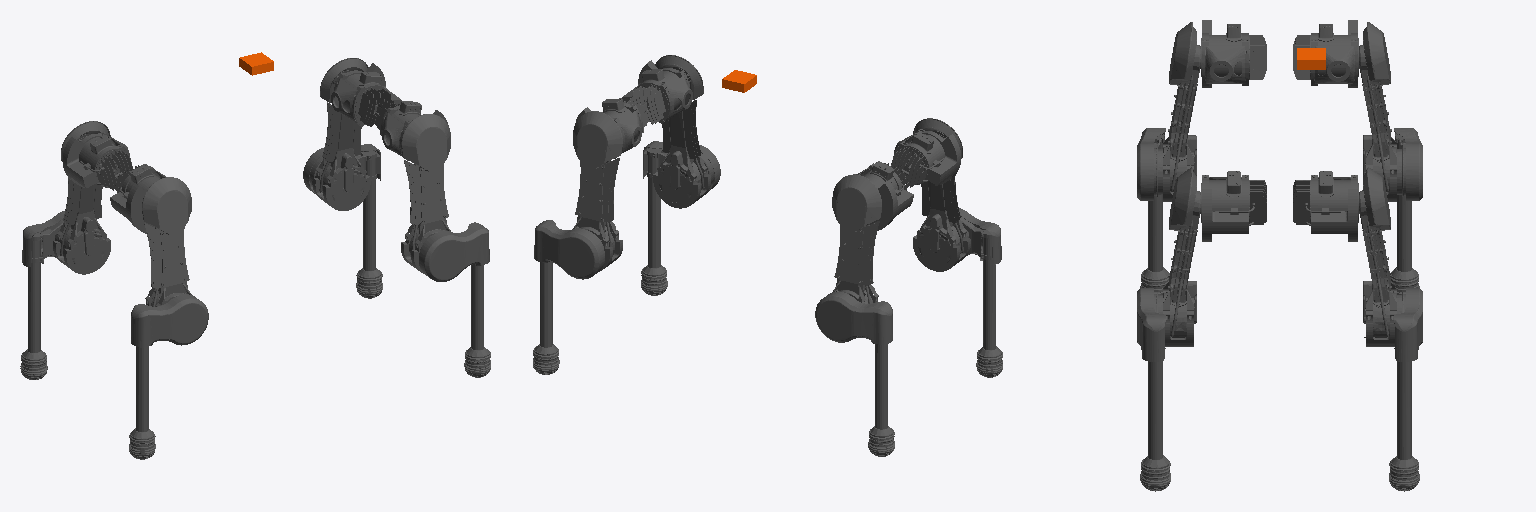
--- Render facts (derived) ---
3 views of the same robot in one strip: view 1: azimuth 30°, elevation 25°; view 2: azimuth 150°, elevation 25°; view 3: azimuth 270°, elevation 25° (orthographic).
Robot: anymal — 23 links, 22 joints (12 revolute, 10 fixed); root link base; default pose: every joint at zero.
Links seen in each view (by area): view 1: RF_THIGH, RH_THIGH, LF_THIGH, LH_THIGH, RH_SHANK, LH_HIP, RF_SHANK, LF_HIP, LH_ADAPTER, LF_ADAPTER, RH_ADAPTER, RF_ADAPTER (+5 smaller); view 2: LF_THIGH, LH_THIGH, RF_THIGH, RH_THIGH, LH_SHANK, RH_HIP, LF_SHANK, RF_HIP, RH_ADAPTER, RF_ADAPTER, LF_ADAPTER, LH_ADAPTER (+5 smaller); view 3: LF_THIGH, RF_THIGH, LH_THIGH, RH_THIGH, LF_HIP, RF_HIP, RH_HIP, LH_HIP, RF_ADAPTER, LF_ADAPTER, LF_SHANK, RF_SHANK (+5 smaller).
Link boxes in pixels (left/top/right/bottom): RF_THIGH: left=401, top=114, right=450, bottom=273; RH_THIGH: left=142, top=177, right=191, bottom=306; LF_THIGH: left=312, top=58, right=370, bottom=210; LH_THIGH: left=53, top=121, right=110, bottom=274; RH_SHANK: left=131, top=294, right=208, bottom=347; LH_HIP: left=63, top=131, right=132, bottom=190; RF_SHANK: left=419, top=222, right=489, bottom=281; LF_HIP: left=331, top=63, right=401, bottom=126; LH_ADAPTER: left=20, top=233, right=47, bottom=379; LF_ADAPTER: left=356, top=151, right=382, bottom=298; RH_ADAPTER: left=129, top=347, right=155, bottom=459; RF_ADAPTER: left=464, top=264, right=490, bottom=377; LF_THIGH: left=573, top=111, right=622, bottom=271; LH_THIGH: left=832, top=174, right=881, bottom=303; RF_THIGH: left=653, top=55, right=710, bottom=208; RH_THIGH: left=913, top=118, right=970, bottom=271; LH_SHANK: left=815, top=292, right=892, bottom=344; RH_HIP: left=891, top=129, right=960, bottom=187; LF_SHANK: left=534, top=220, right=604, bottom=279; RF_HIP: left=622, top=60, right=692, bottom=124; RH_ADAPTER: left=976, top=230, right=1002, bottom=377; RF_ADAPTER: left=641, top=148, right=667, bottom=295; LF_ADAPTER: left=533, top=262, right=559, bottom=374; LH_ADAPTER: left=868, top=344, right=894, bottom=456; LF_THIGH: left=1359, top=167, right=1401, bottom=346; RF_THIGH: left=1158, top=167, right=1200, bottom=346; LH_THIGH: left=1359, top=22, right=1401, bottom=201; RH_THIGH: left=1158, top=22, right=1200, bottom=201; LF_HIP: left=1293, top=171, right=1358, bottom=241; RF_HIP: left=1201, top=171, right=1266, bottom=241; RH_HIP: left=1201, top=20, right=1266, bottom=87; LH_HIP: left=1293, top=20, right=1358, bottom=87; RF_ADAPTER: left=1140, top=361, right=1170, bottom=491; LF_ADAPTER: left=1389, top=361, right=1419, bottom=491; LF_SHANK: left=1394, top=288, right=1422, bottom=361; RF_SHANK: left=1137, top=288, right=1165, bottom=361.
Size in the robot's own frame: 0.9429 by 0.568 by 0.763 metres.
Meshes: 7 distinct files referenced, 16 mesh visuals loaded (6 OBJ); not drawn: 1 (reference not matched to a file when rendering).

The robot description file, URDF, robot "anymal":
<?xml version="1.0" ?>
<!-- =================================================================================== -->
<!-- |    This URDF was edited to fix inertias.                                        | -->
<!-- =================================================================================== -->
<!-- This file contains the description of the ANYmal B robot. -->
<robot name="anymal" 
  xmlns:xacro="http://www.ros.org/wiki/xacro">
  <material name="black">
    <color rgba="0.0 0.0 0.0 1.0"/>
  </material>
  <material name="blue">
    <color rgba="0.0 0.0 0.8 1.0"/>
  </material>
  <material name="green">
    <color rgba="0.0 0.8 0.0 1.0"/>
  </material>
  <material name="grey">
    <color rgba="0.2 0.2 0.2 1.0"/>
  </material>
  <material name="light_grey">
    <color rgba="0.4 0.4 0.4 1.0"/>
  </material>
  <material name="orange">
    <color rgba="1.0 0.423529411765 0.0392156862745 1.0"/>
  </material>
  <material name="brown">
    <color rgba="0.870588235294 0.811764705882 0.764705882353 1.0"/>
  </material>
  <material name="red">
    <color rgba="0.8 0.0 0.0 1.0"/>
  </material>
  <material name="white">
    <color rgba="1.0 1.0 1.0 1.0"/>
  </material>
  <!-- Material for the visual primitives -->
  <material name="anymal_material">
    <color rgba="0.4 0.4 0.4 1."/>
  </material>
  <!-- Xacro:Properties -->
  <!-- [m] -->
  <!-- Base link -->
  <link name="base">
    <visual>
      <origin rpy="0 0 0" xyz="0 0 0"/>
      <geometry>
        <mesh filename="package://anymal_b_simple_description/meshes/base/anymal_base.obj" scale="1 1 1"/>
      </geometry>
      <material name="anymal_material"/>
    </visual>
    <collision>
      <!-- Main Body -->
      <origin rpy="0 0 0" xyz="0 0 0.08"/>
      <geometry>
        <box size="0.531 0.27 0.24"/>
      </geometry>
    </collision>
    <collision>
      <!-- HAA actuators -->
      <origin rpy="0 1.57079632679 0" xyz="0.227 0.116 0"/>
      <geometry>
        <cylinder length="0.1" radius="0.05"/>
      </geometry>
    </collision>
    <collision>
      <origin rpy="0 1.57079632679 0" xyz="0.227 -0.116 0"/>
      <geometry>
        <cylinder length="0.1" radius="0.05"/>
      </geometry>
    </collision>
    <collision>
      <origin rpy="0 1.57079632679 0" xyz="-0.227 0.116 0"/>
      <geometry>
        <cylinder length="0.1" radius="0.05"/>
      </geometry>
    </collision>
    <collision>
      <origin rpy="0 1.57079632679 0" xyz="-0.227 -0.116 0"/>
      <geometry>
        <cylinder length="0.1" radius="0.05"/>
      </geometry>
    </collision>
    <collision>
      <!-- Belly plate front bump -->
      <origin rpy="0 0 0" xyz="0.2155 0.0 -0.09"/>
      <geometry>
        <box size="0.1 0.1 0.07"/>
      </geometry>
    </collision>
    <collision>
      <!-- Belly plate hind bump-->
      <origin rpy="0 0 0" xyz="-0.2155 0.0 -0.09"/>
      <geometry>
        <box size="0.1 0.1 0.07"/>
      </geometry>
    </collision>
    <collision>
      <!-- Belly plate middle bump-->
      <origin rpy="0 0 0" xyz="0 0 -0.09"/>
      <geometry>
        <box size="0.531 0.02 0.07"/>
      </geometry>
    </collision>
    <inertial>
      <mass value="1e-6"/>
      <inertia ixx="1e-6" ixy="1e-6" ixz="1e-6" iyy="1e-6" iyz="1e-6" izz="1e-6"/>
    </inertial>
  </link>
  <!-- Fixed joint to add dummy inertia link -->
  <joint name="base_to_base_inertia" type="fixed">
    <parent link="base"/>
    <child link="base_inertia"/>
    <origin rpy="0 0 0" xyz="0 0 0"/>
  </joint>
  <!-- Dummy inertia link, because KDL cannot have inertia on the base link -->
  <link name="base_inertia">
    <inertial>
      <origin rpy="0 0 0" xyz="-0.001960558279 -0.001413217745 0.050207125344"/>
      <mass value="16.793507758"/>
      <inertia ixx="0.217391101503" ixy="-0.00132873239126" ixz="-0.00228200226173" iyy="0.639432546734" iyz="-0.00138078263145" izz="0.62414077654"/>
    </inertial>
  </link>
  <!-- Xacro:Properties -->
  <!-- [kg * m^2] -->
  <!-- [A] -->
  <link name="LF_HIP">
    <visual>
      <origin rpy="0 0 0.0" xyz="0 0 0"/>
      <geometry>
        <mesh filename="package://anymal_b_simple_description/meshes/hip/anymal_hip_l.obj" scale="1 1 1"/>
      </geometry>
      <material name="anymal_material"/>
    </visual>
    <collision>
      <!-- Protector -->
      <origin rpy="1.57079632679 0 0" xyz="0.0635 -0.009 0.0"/>
      <geometry>
        <cylinder length="0.1" radius="0.08"/>
      </geometry>
    </collision>
    <collision>
      <!-- Heatfins -->
      <origin rpy="1.57079632679 0 0" xyz="0.0635 -0.074 0.0"/>
      <geometry>
        <cylinder length="0.03" radius="0.045"/>
      </geometry>
    </collision>
    <inertial>
      <origin rpy="0 0 0" xyz="0.064516258147 -0.003787101702 -0.000152184388"/>
      <mass value="1.42462064"/>
      <inertia ixx="0.00243023349564" ixy="-1.53023971e-05" ixz="-2.1819095354e-05" iyy="0.00230257239103" iyz="2.6473021273e-05" izz="0.0019806759227"/>
    </inertial>
  </link>
  <!-- Hip joint -->
  <joint name="LF_HAA" type="revolute">
    <parent link="base"/>
    <child link="LF_HIP"/>
    <origin xyz="0.277 0.116 0.0"/>
    <axis xyz="1 0 0"/>
    <limit command_effort="40" current="10" effort="80" gear_velocity="10" lower="-9.42" upper="9.42" velocity="15"/>
    <dynamics damping="0.0" friction="0.0"/>
  </joint>
  <!-- Xacro:Properties -->
  <!-- [m] -->
  <!-- [A] -->
  <link name="LF_THIGH">
    <visual>
      <origin rpy="0 0 0" xyz="0 0 0"/>
      <geometry>
        <mesh filename="package://anymal_b_simple_description/meshes/thigh/anymal_thigh.obj" scale="1 1 1"/>
      </geometry>
      <material name="anymal_material"/>
    </visual>
    <collision>
      <!-- thigh with heat fins -->
      <origin rpy="0.145 0 0" xyz="0 0.035 -0.125"/>
      <geometry>
        <box size="0.08 0.04 0.25"/>
      </geometry>
    </collision>
    <collision>
      <!-- KFE actuator -->
      <origin rpy="1.57079632679 0 0" xyz="0.0 0.069 -0.25"/>
      <geometry>
        <cylinder length="0.12" radius="0.06"/>
      </geometry>
    </collision>
    <collision>
      <!-- upper protector -->
      <origin rpy="1.71579632679 0 0" xyz="0 -0.005 0"/>
      <geometry>
        <cylinder length="0.12" radius="0.066"/>
      </geometry>
    </collision>
    <inertial>
      <origin rpy="0 0 0" xyz="-0.003897968082 0.054226618537 -0.214583373795"/>
      <mass value="1.634976467"/>
      <inertia ixx="0.0120367944369" ixy="6.762065206e-05" ixz="0.000287806340448" iyy="0.0120643637939" iyz="-0.00140610131218" izz="0.00249422574881"/>
    </inertial>
  </link>
  <!-- Thigh joint -->
  <joint name="LF_HFE" type="revolute">
    <parent link="LF_HIP"/>
    <child link="LF_THIGH"/>
    <origin xyz="0.0635                    0.041                    0.0"/>
    <axis xyz="0 1 0"/>
    <limit command_effort="40" current="10" effort="80" gear_velocity="10" lower="-9.42" upper="9.42" velocity="15.0"/>
    <dynamics damping="0.0" friction="0.0"/>
  </joint>
  <!-- Xacro:Properties -->
  <!-- [m] -->
  <!-- [A] -->
  <link name="LF_SHANK">
    <visual>
      <origin rpy="0 0 0.0" xyz="0 0 0"/>
      <geometry>
        <mesh filename="package://anymal_b_simple_description/meshes/shank/anymal_shank_l.obj" scale="1 1 1"/>
      </geometry>
      <material name="anymal_material"/>
    </visual>
    <collision>
      <origin rpy="0 1.57079632679 0" xyz="0.065 -0.015 0.01"/>
      <geometry>
        <box size="0.08 0.07 0.13"/>
      </geometry>
    </collision>
    <inertial>
      <origin rpy="0 0 0" xyz="0.030816858139 -0.004617229294 0.000893125713"/>
      <mass value="0.207204302"/>
      <inertia ixx="0.0002104880248" ixy="-5.6750980345e-05" ixz="1.0127699391e-05" iyy="0.000676270210023" iyz="-8.22869024e-07" izz="0.000545032674924"/>
    </inertial>
  </link>
  <!-- Shank joint -->
  <joint name="LF_KFE" type="revolute">
    <parent link="LF_THIGH"/>
    <child link="LF_SHANK"/>
    <origin xyz="0.0 0.109 -0.25"/>
    <axis xyz="0 1 0"/>
    <limit command_effort="40" current="10" effort="80" gear_velocity="10" lower="-9.42" upper="9.42" velocity="15.0"/>
    <dynamics damping="0.0" friction="0.0"/>
  </joint>
  <!-- Xacro:Properties -->
  <!-- [m] -->
  <!-- Shank to Adapter joint -->
  <joint name="LF_SHANK_TO_ADAPTER" type="fixed">
    <parent link="LF_SHANK"/>
    <child link="LF_ADAPTER"/>
    <origin rpy="0.0 0.0 0.0" xyz="0.1 -0.02 0.0"/>
  </joint>
  <!-- Adapter link -->
  <link name="LF_ADAPTER">
    <visual>
      <origin rpy="0 0 0" xyz="0 0 0.032"/>
      <geometry>
        <mesh filename="package://anymal_b_simple_description/meshes/foot/anymal_foot.obj" scale="1 1 1"/>
      </geometry>
      <material name="anymal_material"/>
    </visual>
    <collision>
      <origin rpy="0 0 0" xyz="0 0 -0.160625"/>
      <geometry>
        <cylinder length="0.32125" radius="0.015"/>
      </geometry>
      <material name="anymal_material"/>
    </collision>
    <inertial>
      <origin rpy="0 0 0" xyz="-8.66e-10 -1.472e-09 -0.244345749188"/>
      <mass value="0.140170767"/>
      <inertia ixx="0.00159938741862" ixy="-9.32e-13" ixz="1.039e-11" iyy="0.00159938741932" iyz="1.7563e-11" izz="5.4423177329e-05"/>
    </inertial>
  </link>
  <!-- Adapter to Foot joint -->
  <joint name="LF_ADAPTER_TO_FOOT" type="fixed">
    <parent link="LF_ADAPTER"/>
    <child link="LF_FOOT"/>
    <origin rpy="0.0 0.0 0.0" xyz="0.0 0.0 -0.32125"/>
  </joint>
  <!-- Foot link -->
  <link name="LF_FOOT">
    <collision>
      <origin xyz="0 0 0.02325"/>
      <geometry>
        <sphere radius="0.031"/>
      </geometry>
    </collision>
    <inertial>
      <mass value="0.001"/>
      <inertia ixx="4.90e-07" ixy="0.0" ixz="0.0" iyy="4.90e-07" iyz="0.0" izz="4.90e-07"/>
      <!-- for a sphere: 2/5 m * r**2 -->
    </inertial>
    <!-- Bullet specific parameters -->
    <contact>
      <lateral_friction value="1.0"/>
      <stiffness value="300000"/>
      <damping value="15000"/>
      <!--<restitution value="0.5"/>-->
    </contact>
  </link>
  <!-- Gazebo customization -->
  <gazebo reference="LF_FOOT">
    <kp>1000000.0</kp>
    <kd>100.0</kd>
    <mu1>0.8</mu1>
    <mu2>0.8</mu2>
  </gazebo>
  <!-- Xacro:Properties -->
  <!-- [kg * m^2] -->
  <!-- [A] -->
  <link name="RF_HIP">
    <visual>
      <origin rpy="0 0 0" xyz="0 0 0"/>
      <geometry>
        <mesh filename="package://anymal_b_simple_description/meshes/hip/anymal_hip_r.obj" scale="1 1 1"/>
      </geometry>
      <material name="anymal_material"/>
    </visual>
    <collision>
      <!-- Protector -->
      <origin rpy="1.57079632679 0 0" xyz="0.0635 0.009 0.0"/>
      <geometry>
        <cylinder length="0.1" radius="0.08"/>
      </geometry>
    </collision>
    <collision>
      <!-- Heatfins -->
      <origin rpy="1.57079632679 0 0" xyz="0.0635 0.074 0.0"/>
      <geometry>
        <cylinder length="0.03" radius="0.045"/>
      </geometry>
    </collision>
    <inertial>
      <origin rpy="0 0 0" xyz="0.064516258147 0.003787101702 -0.000152184388"/>
      <mass value="1.42462064"/>
      <inertia ixx="0.00243023349564" ixy="1.53023971e-05" ixz="-2.1819095354e-05" iyy="0.00230257239103" iyz="-2.6473021273e-05" izz="0.0019806759227"/>
    </inertial>
  </link>
  <!-- Hip joint -->
  <joint name="RF_HAA" type="revolute">
    <parent link="base"/>
    <child link="RF_HIP"/>
    <origin xyz="0.277 -0.116 0.0"/>
    <axis xyz="1 0 0"/>
    <limit command_effort="40" current="10" effort="80" gear_velocity="10" lower="-9.42" upper="9.42" velocity="15"/>
    <dynamics damping="0.0" friction="0.0"/>
  </joint>
  <!-- Xacro:Properties -->
  <!-- [m] -->
  <!-- [A] -->
  <link name="RF_THIGH">
    <visual>
      <origin rpy="3.1416 3.1416 0.0" xyz="0 0 0"/>
      <geometry>
        <mesh filename="package://anymal_b_simple_description/meshes/thigh/anymal_thigh.obj" scale="1 1 1"/>
      </geometry>
      <material name="anymal_material"/>
    </visual>
    <collision>
      <!-- thigh with heat fins -->
      <origin rpy="-0.145 0 0" xyz="0 -0.035 -0.125"/>
      <geometry>
        <box size="0.08 0.04 0.25"/>
      </geometry>
    </collision>
    <collision>
      <!-- KFE actuator -->
      <origin rpy="1.57079632679 0 0" xyz="0.0 -0.069 -0.25"/>
      <geometry>
        <cylinder length="0.12" radius="0.06"/>
      </geometry>
    </collision>
    <collision>
      <!-- upper protector -->
      <origin rpy="-1.71579632679 0 0" xyz="0 0.005 0"/>
      <geometry>
        <cylinder length="0.12" radius="0.066"/>
      </geometry>
    </collision>
    <inertial>
      <origin rpy="0 0 0" xyz="-0.003897968082 -0.054226618537 -0.214583373795"/>
      <mass value="1.634976467"/>
      <inertia ixx="0.0120367944369" ixy="-6.762065206e-05" ixz="0.000287806340448" iyy="0.0120643637939" iyz="0.00140610131218" izz="0.00249422574881"/>
    </inertial>
  </link>
  <!-- Thigh joint -->
  <joint name="RF_HFE" type="revolute">
    <parent link="RF_HIP"/>
    <child link="RF_THIGH"/>
    <origin xyz="0.0635                    -0.041                    0.0"/>
    <axis xyz="0 1 0"/>
    <limit command_effort="40" current="10" effort="80" gear_velocity="10" lower="-9.42" upper="9.42" velocity="15.0"/>
    <dynamics damping="0.0" friction="0.0"/>
  </joint>
  <!-- Xacro:Properties -->
  <!-- [m] -->
  <!-- [A] -->
  <link name="RF_SHANK">
    <visual>
      <origin rpy="0 0 0.0" xyz="0 0 0"/>
      <geometry>
        <mesh filename="package://anymal_b_simple_description/meshes/shank/anymal_shank_r.obj" scale="1 1 1"/>
      </geometry>
      <material name="anymal_material"/>
    </visual>
    <collision>
      <origin rpy="0 1.57079632679 0" xyz="0.065 0.015 0.01"/>
      <geometry>
        <box size="0.08 0.07 0.13"/>
      </geometry>
    </collision>
    <inertial>
      <origin rpy="0 0 0" xyz="0.030816858139 0.004617229294 0.000893125713"/>
      <mass value="0.207204302"/>
      <inertia ixx="0.0002104880248" ixy="5.6750980345e-05" ixz="1.0127699391e-05" iyy="0.000676270210023" iyz="8.22869024e-07" izz="0.000545032674924"/>
    </inertial>
  </link>
  <!-- Shank joint -->
  <joint name="RF_KFE" type="revolute">
    <parent link="RF_THIGH"/>
    <child link="RF_SHANK"/>
    <origin xyz="0.0 -0.109 -0.25"/>
    <axis xyz="0 1 0"/>
    <limit command_effort="40" current="10" effort="80" gear_velocity="10" lower="-9.42" upper="9.42" velocity="15.0"/>
    <dynamics damping="0.0" friction="0.0"/>
  </joint>
  <!-- Xacro:Properties -->
  <!-- [m] -->
  <!-- Shank to Adapter joint -->
  <joint name="RF_SHANK_TO_ADAPTER" type="fixed">
    <parent link="RF_SHANK"/>
    <child link="RF_ADAPTER"/>
    <origin rpy="-0.0 0.0 -0.0" xyz="0.1 0.02 0.0"/>
  </joint>
  <!-- Adapter link -->
  <link name="RF_ADAPTER">
    <visual>
      <origin rpy="0 0 0" xyz="0 0 0.032"/>
      <geometry>
        <mesh filename="package://anymal_b_simple_description/meshes/foot/anymal_foot.obj" scale="1 1 1"/>
      </geometry>
      <material name="anymal_material"/>
    </visual>
    <collision>
      <origin rpy="0 0 0" xyz="0 0 -0.160625"/>
      <geometry>
        <cylinder length="0.32125" radius="0.015"/>
      </geometry>
      <material name="anymal_material"/>
    </collision>
    <inertial>
      <origin rpy="0 0 0" xyz="-8.66e-10 -1.472e-09 -0.244345749188"/>
      <mass value="0.140170767"/>
      <inertia ixx="0.00159938741862" ixy="-9.32e-13" ixz="1.039e-11" iyy="0.00159938741932" iyz="1.7563e-11" izz="5.4423177329e-05"/>
    </inertial>
  </link>
  <!-- Adapter to Foot joint -->
  <joint name="RF_ADAPTER_TO_FOOT" type="fixed">
    <parent link="RF_ADAPTER"/>
    <child link="RF_FOOT"/>
    <origin rpy="-0.0 0.0 -0.0" xyz="0.0 -0.0 -0.32125"/>
  </joint>
  <!-- Foot link -->
  <link name="RF_FOOT">
    <collision>
      <origin xyz="0 0 0.02325"/>
      <geometry>
        <sphere radius="0.031"/>
      </geometry>
    </collision>
    <inertial>
      <mass value="0.001"/>
      <inertia ixx="4.90e-07" ixy="0.0" ixz="0.0" iyy="4.90e-07" iyz="0.0" izz="4.90e-07"/>
      <!-- for a sphere: 2/5 m * r**2 -->
    </inertial>
    <!-- Bullet specific parameters -->
    <contact>
      <lateral_friction value="1.0"/>
      <stiffness value="300000"/>
      <damping value="15000"/>
      <!--<restitution value="0.5"/>-->
    </contact>
  </link>
  <!-- Gazebo customization -->
  <gazebo reference="RF_FOOT">
    <kp>1000000.0</kp>
    <kd>100.0</kd>
    <mu1>0.8</mu1>
    <mu2>0.8</mu2>
  </gazebo>
  <!-- Xacro:Properties -->
  <!-- [kg * m^2] -->
  <!-- [A] -->
  <link name="LH_HIP">
    <visual>
      <origin rpy="0 0 -3.14159265359" xyz="0 0 0"/>
      <geometry>
        <mesh filename="package://anymal_b_simple_description/meshes/hip/anymal_hip_r.obj" scale="1 1 1"/>
      </geometry>
      <material name="anymal_material"/>
    </visual>
    <collision>
      <!-- Protector -->
      <origin rpy="-1.57079632679 0 0" xyz="-0.0635 -0.009 0.0"/>
      <geometry>
        <cylinder length="0.1" radius="0.08"/>
      </geometry>
    </collision>
    <collision>
      <!-- Heatfins -->
      <origin rpy="-1.57079632679 0 0" xyz="-0.0635 -0.074 0.0"/>
      <geometry>
        <cylinder length="0.03" radius="0.045"/>
      </geometry>
    </collision>
    <inertial>
      <origin rpy="0 0 0" xyz="-0.064516258147 -0.003787101702 -0.000152184388"/>
      <mass value="1.42462064"/>
      <inertia ixx="0.00243023349564" ixy="1.53023971e-05" ixz="2.1819095354e-05" iyy="0.00230257239103" iyz="2.6473021273e-05" izz="0.0019806759227"/>
    </inertial>
  </link>
  <!-- Hip joint -->
  <joint name="LH_HAA" type="revolute">
    <parent link="base"/>
    <child link="LH_HIP"/>
    <origin xyz="-0.277 0.116 0.0"/>
    <axis xyz="1 0 0"/>
    <limit command_effort="40" current="10" effort="80" gear_velocity="10" lower="-9.42" upper="9.42" velocity="15"/>
    <dynamics damping="0.0" friction="0.0"/>
  </joint>
  <!-- Xacro:Properties -->
  <!-- [m] -->
  <!-- [A] -->
  <link name="LH_THIGH">
    <visual>
      <origin rpy="0 0 0" xyz="0 0 0"/>
      <geometry>
        <mesh filename="package://anymal_b_simple_description/meshes/thigh/anymal_thigh.obj" scale="1 1 1"/>
      </geometry>
      <material name="anymal_material"/>
    </visual>
    <collision>
      <!-- thigh with heat fins -->
      <origin rpy="0.145 0 0" xyz="0 0.035 -0.125"/>
      <geometry>
        <box size="0.08 0.04 0.25"/>
      </geometry>
    </collision>
    <collision>
      <!-- KFE actuator -->
      <origin rpy="1.57079632679 0 0" xyz="0.0 0.069 -0.25"/>
      <geometry>
        <cylinder length="0.12" radius="0.06"/>
      </geometry>
    </collision>
    <collision>
      <!-- upper protector -->
      <origin rpy="1.71579632679 0 0" xyz="0 -0.005 0"/>
      <geometry>
        <cylinder length="0.12" radius="0.066"/>
      </geometry>
    </collision>
    <inertial>
      <origin rpy="0 0 0" xyz="0.003897968082 0.054226618537 -0.214583373795"/>
      <mass value="1.634976467"/>
      <inertia ixx="0.0120367944369" ixy="-6.762065206e-05" ixz="-0.000287806340448" iyy="0.0120643637939" iyz="-0.00140610131218" izz="0.00249422574881"/>
    </inertial>
  </link>
  <!-- Thigh joint -->
  <joint name="LH_HFE" type="revolute">
    <parent link="LH_HIP"/>
    <child link="LH_THIGH"/>
    <origin xyz="-0.0635                    0.041                    0.0"/>
    <axis xyz="0 1 0"/>
    <limit command_effort="40" current="10" effort="80" gear_velocity="10" lower="-9.42" upper="9.42" velocity="15.0"/>
    <dynamics damping="0.0" friction="0.0"/>
  </joint>
  <!-- Xacro:Properties -->
  <!-- [m] -->
  <!-- [A] -->
  <link name="LH_SHANK">
    <visual>
      <origin rpy="0 0 -3.14159265359" xyz="0 0 0"/>
      <geometry>
        <mesh filename="package://anymal_b_simple_description/meshes/shank/anymal_shank_r.obj" scale="1 1 1"/>
      </geometry>
      <material name="anymal_material"/>
    </visual>
    <collision>
      <origin rpy="0 1.57079632679 0" xyz="-0.065 -0.015 0.01"/>
      <geometry>
        <box size="0.08 0.07 0.13"/>
      </geometry>
    </collision>
    <inertial>
      <origin rpy="0 0 0" xyz="-0.030816858139 -0.004617229294 0.000893125713"/>
      <mass value="0.207204302"/>
      <inertia ixx="0.0002104880248" ixy="5.6750980345e-05" ixz="-1.0127699391e-05" iyy="0.000676270210023" iyz="-8.22869024e-07" izz="0.000545032674924"/>
    </inertial>
  </link>
  <!-- Shank joint -->
  <joint name="LH_KFE" type="revolute">
    <parent link="LH_THIGH"/>
    <child link="LH_SHANK"/>
    <origin xyz="-0.0 0.109 -0.25"/>
    <axis xyz="0 1 0"/>
    <limit command_effort="40" current="10" effort="80" gear_velocity="10" lower="-9.42" upper="9.42" velocity="15.0"/>
    <dynamics damping="0.0" friction="0.0"/>
  </joint>
  <!-- Xacro:Properties -->
  <!-- [m] -->
  <!-- Shank to Adapter joint -->
  <joint name="LH_SHANK_TO_ADAPTER" type="fixed">
    <parent link="LH_SHANK"/>
    <child link="LH_ADAPTER"/>
    <origin rpy="0.0 -0.0 -0.0" xyz="-0.1 -0.02 0.0"/>
  </joint>
  <!-- Adapter link -->
  <link name="LH_ADAPTER">
    <visual>
      <origin rpy="0 0 -3.14159265359" xyz="0 0 0.032"/>
      <geometry>
        <mesh filename="package://anymal_b_simple_description/meshes/foot/anymal_foot.obj" scale="1 1 1"/>
      </geometry>
      <material name="anymal_material"/>
    </visual>
    <collision>
      <origin rpy="0 0 0" xyz="0 0 -0.160625"/>
      <geometry>
        <cylinder length="0.32125" radius="0.015"/>
      </geometry>
      <material name="anymal_material"/>
    </collision>
    <inertial>
      <origin rpy="0 0 0" xyz="-8.66e-10 -1.472e-09 -0.244345749188"/>
      <mass value="0.140170767"/>
      <inertia ixx="0.00159938741862" ixy="-9.32e-13" ixz="1.039e-11" iyy="0.00159938741932" iyz="1.7563e-11" izz="5.4423177329e-05"/>
    </inertial>
  </link>
  <!-- Adapter to Foot joint -->
  <joint name="LH_ADAPTER_TO_FOOT" type="fixed">
    <parent link="LH_ADAPTER"/>
    <child link="LH_FOOT"/>
    <origin rpy="0.0 -0.0 -0.0" xyz="-0.0 0.0 -0.32125"/>
  </joint>
  <!-- Foot link -->
  <link name="LH_FOOT">
    <collision>
      <origin xyz="0 0 0.02325"/>
      <geometry>
        <sphere radius="0.031"/>
      </geometry>
    </collision>
    <inertial>
      <mass value="0.001"/>
      <inertia ixx="4.90e-07" ixy="0.0" ixz="0.0" iyy="4.90e-07" iyz="0.0" izz="4.90e-07"/>
      <!-- for a sphere: 2/5 m * r**2 -->
    </inertial>
    <!-- Bullet specific parameters -->
    <contact>
      <lateral_friction value="1.0"/>
      <stiffness value="300000"/>
      <damping value="15000"/>
      <!--<restitution value="0.5"/>-->
    </contact>
  </link>
  <!-- Gazebo customization -->
  <gazebo reference="LH_FOOT">
    <kp>1000000.0</kp>
    <kd>100.0</kd>
    <mu1>0.8</mu1>
    <mu2>0.8</mu2>
  </gazebo>
  <!-- Xacro:Properties -->
  <!-- [kg * m^2] -->
  <!-- [A] -->
  <link name="RH_HIP">
    <visual>
      <origin rpy="0 0 -3.14159265359" xyz="0 0 0"/>
      <geometry>
        <mesh filename="package://anymal_b_simple_description/meshes/hip/anymal_hip_l.obj" scale="1 1 1"/>
      </geometry>
      <material name="anymal_material"/>
    </visual>
    <collision>
      <!-- Protector -->
      <origin rpy="-1.57079632679 0 0" xyz="-0.0635 0.009 0.0"/>
      <geometry>
        <cylinder length="0.1" radius="0.08"/>
      </geometry>
    </collision>
    <collision>
      <!-- Heatfins -->
      <origin rpy="-1.57079632679 0 0" xyz="-0.0635 0.074 0.0"/>
      <geometry>
        <cylinder length="0.03" radius="0.045"/>
      </geometry>
    </collision>
    <inertial>
      <origin rpy="0 0 0" xyz="-0.064516258147 0.003787101702 -0.000152184388"/>
      <mass value="1.42462064"/>
      <inertia ixx="0.00243023349564" ixy="-1.53023971e-05" ixz="2.1819095354e-05" iyy="0.00230257239103" iyz="-2.6473021273e-05" izz="0.0019806759227"/>
    </inertial>
  </link>
  <!-- Hip joint -->
  <joint name="RH_HAA" type="revolute">
    <parent link="base"/>
    <child link="RH_HIP"/>
    <origin xyz="-0.277 -0.116 0.0"/>
    <axis xyz="1 0 0"/>
    <limit command_effort="40" current="10" effort="80" gear_velocity="10" lower="-9.42" upper="9.42" velocity="15"/>
    <dynamics damping="0.0" friction="0.0"/>
  </joint>
  <!-- Xacro:Properties -->
  <!-- [m] -->
  <!-- [A] -->
  <link name="RH_THIGH">
    <visual>
      <origin rpy="0 0 -3.14159265359" xyz="0 0 0"/>
      <geometry>
        <mesh filename="package://anymal_b_simple_description/meshes/thigh/anymal_thigh.obj" scale="1 1 1"/>
      </geometry>
      <material name="anymal_material"/>
    </visual>
    <collision>
      <!-- thigh with heat fins -->
      <origin rpy="-0.145 0 0" xyz="0 -0.035 -0.125"/>
      <geometry>
        <box size="0.08 0.04 0.25"/>
      </geometry>
    </collision>
    <collision>
      <!-- KFE actuator -->
      <origin rpy="1.57079632679 0 0" xyz="0.0 -0.069 -0.25"/>
      <geometry>
        <cylinder length="0.12" radius="0.06"/>
      </geometry>
    </collision>
    <collision>
      <!-- upper protector -->
      <origin rpy="-1.71579632679 0 0" xyz="0 0.005 0"/>
      <geometry>
        <cylinder length="0.12" radius="0.066"/>
      </geometry>
    </collision>
    <inertial>
      <origin rpy="0 0 0" xyz="0.003897968082 -0.054226618537 -0.214583373795"/>
      <mass value="1.634976467"/>
      <inertia ixx="0.0120367944369" ixy="6.762065206e-05" ixz="-0.000287806340448" iyy="0.0120643637939" iyz="0.00140610131218" izz="0.00249422574881"/>
    </inertial>
  </link>
  <!-- Thigh joint -->
  <joint name="RH_HFE" type="revolute">
    <parent link="RH_HIP"/>
    <child link="RH_THIGH"/>
    <origin xyz="-0.0635                    -0.041                    0.0"/>
    <axis xyz="0 1 0"/>
    <limit command_effort="40" current="10" effort="80" gear_velocity="10" lower="-9.42" upper="9.42" velocity="15.0"/>
    <dynamics damping="0.0" friction="0.0"/>
  </joint>
  <!-- Xacro:Properties -->
  <!-- [m] -->
  <!-- [A] -->
  <link name="RH_SHANK">
    <visual>
      <origin rpy="0 0 -3.14159265359" xyz="0 0 0"/>
      <geometry>
        <mesh filename="package://anymal_b_simple_description/meshes/shank/anymal_shank_l.obj" scale="1 1 1"/>
      </geometry>
      <material name="anymal_material"/>
    </visual>
    <collision>
      <origin rpy="0 1.57079632679 0" xyz="-0.065 0.015 0.01"/>
      <geometry>
        <box size="0.08 0.07 0.13"/>
      </geometry>
    </collision>
    <inertial>
      <origin rpy="0 0 0" xyz="-0.030816858139 0.004617229294 0.000893125713"/>
      <mass value="0.207204302"/>
      <inertia ixx="0.0002104880248" ixy="-5.6750980345e-05" ixz="-1.0127699391e-05" iyy="0.000676270210023" iyz="8.22869024e-07" izz="0.000545032674924"/>
    </inertial>
  </link>
  <!-- Shank joint -->
  <joint name="RH_KFE" type="revolute">
    <parent link="RH_THIGH"/>
    <child link="RH_SHANK"/>
    <origin xyz="-0.0 -0.109 -0.25"/>
    <axis xyz="0 1 0"/>
    <limit command_effort="40" current="10" effort="80" gear_velocity="10" lower="-9.42" upper="9.42" velocity="15.0"/>
    <dynamics damping="0.0" friction="0.0"/>
  </joint>
  <!-- Xacro:Properties -->
  <!-- [m] -->
  <!-- Shank to Adapter joint -->
  <joint name="RH_SHANK_TO_ADAPTER" type="fixed">
    <parent link="RH_SHANK"/>
    <child link="RH_ADAPTER"/>
    <origin rpy="-0.0 -0.0 0.0" xyz="-0.1 0.02 0.0"/>
  </joint>
  <!-- Adapter link -->
  <link name="RH_ADAPTER">
    <visual>
      <origin rpy="0 0 -3.14159265359" xyz="0 0 0.032"/>
      <geometry>
        <mesh filename="package://anymal_b_simple_description/meshes/foot/anymal_foot.obj" scale="1 1 1"/>
      </geometry>
      <material name="anymal_material"/>
    </visual>
    <collision>
      <origin rpy="0 0 0" xyz="0 0 -0.160625"/>
      <geometry>
        <cylinder length="0.32125" radius="0.015"/>
      </geometry>
      <material name="anymal_material"/>
    </collision>
    <inertial>
      <origin rpy="0 0 0" xyz="-8.66e-10 -1.472e-09 -0.244345749188"/>
      <mass value="0.140170767"/>
      <inertia ixx="0.00159938741862" ixy="-9.32e-13" ixz="1.039e-11" iyy="0.00159938741932" iyz="1.7563e-11" izz="5.4423177329e-05"/>
    </inertial>
  </link>
  <!-- Adapter to Foot joint -->
  <joint name="RH_ADAPTER_TO_FOOT" type="fixed">
    <parent link="RH_ADAPTER"/>
    <child link="RH_FOOT"/>
    <origin rpy="-0.0 -0.0 0.0" xyz="-0.0 -0.0 -0.32125"/>
  </joint>
  <!-- Foot link -->
  <link name="RH_FOOT">
    <collision>
      <origin xyz="0 0 0.02325"/>
      <geometry>
        <sphere radius="0.031"/>
      </geometry>
    </collision>
    <inertial>
      <mass value="0.001"/>
      <inertia ixx="4.90e-07" ixy="0.0" ixz="0.0" iyy="4.90e-07" iyz="0.0" izz="4.90e-07"/>
      <!-- for a sphere: 2/5 m * r**2 -->
    </inertial>
    <!-- Bullet specific parameters -->
    <contact>
      <lateral_friction value="1.0"/>
      <stiffness value="300000"/>
      <damping value="15000"/>
      <!--<restitution value="0.5"/>-->
    </contact>
  </link>
  <!-- Gazebo customization -->
  <gazebo reference="RH_FOOT">
    <kp>1000000.0</kp>
    <kd>100.0</kd>
    <mu1>0.8</mu1>
    <mu2>0.8</mu2>
  </gazebo>
  <link name="imu_link">
    <visual>
      <origin rpy="0 0 0" xyz="0 0 0.011"/>
      <geometry>
        <box size="0.058 0.058 0.022"/>
      </geometry>
      <material name="orange"/>
    </visual>
    <collision>
      <origin rpy="0 0 0" xyz="0 0 0.011"/>
      <geometry>
        <box size="0.058 0.058 0.022"/>
      </geometry>
    </collision>
    <inertial>
      <mass value="0.05"/>
      <origin xyz="0 0 0"/>
      <inertia ixx="1.60333333333e-05" ixy="0.0" ixz="0.0" iyy="2.80333333333e-05" iyz="0.0" izz="1.60333333333e-05"/>
    </inertial>
  </link>
  <joint name="imu_joint" type="fixed">
    <parent link="base"/>
    <child link="imu_link"/>
    <origin rpy="0 3.14159265359 0" xyz="0.038 0.06245 0.1837"/>
  </joint>
</robot>
